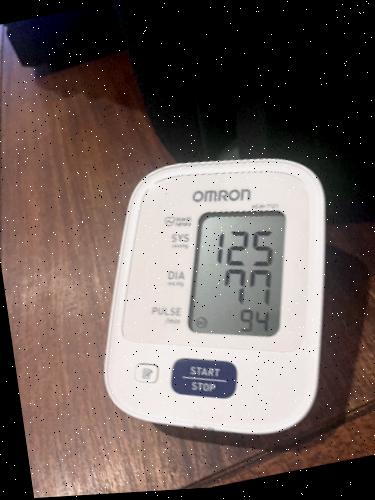bpm: (184, 203, 289, 340)
